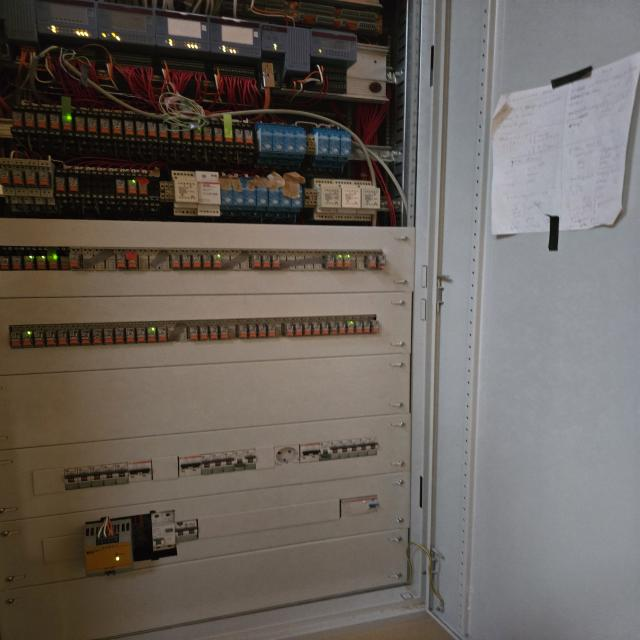Dimmer: (172, 170, 198, 216), (196, 171, 221, 217), (314, 178, 341, 220), (334, 179, 361, 220), (353, 180, 380, 221), (256, 123, 273, 159), (281, 125, 296, 160), (270, 124, 284, 160), (242, 177, 257, 210), (292, 126, 306, 161), (219, 176, 233, 210), (231, 176, 245, 210), (254, 177, 268, 211), (277, 178, 291, 212), (266, 178, 280, 211), (288, 179, 302, 212), (338, 130, 352, 161), (326, 129, 339, 162), (315, 128, 328, 160)
FI: (340, 494, 377, 517)
FI_Sicherungskombi: (151, 510, 176, 550)
Leitungsschutzschalter: (77, 466, 92, 489), (64, 468, 79, 490), (90, 465, 104, 487), (115, 462, 128, 485), (103, 464, 116, 486), (128, 461, 140, 483), (140, 459, 152, 481), (179, 456, 191, 477), (245, 448, 256, 470), (186, 520, 197, 541), (234, 450, 245, 471), (358, 438, 370, 457), (175, 522, 186, 542), (201, 454, 212, 474), (212, 453, 223, 473), (223, 452, 234, 472), (319, 441, 330, 461), (191, 455, 201, 475), (300, 443, 310, 463), (329, 440, 339, 460), (339, 439, 349, 459), (349, 439, 359, 458), (368, 436, 378, 455), (310, 443, 320, 461)
Relais: (86, 117, 98, 134), (126, 253, 139, 268), (62, 115, 73, 132), (38, 112, 48, 130), (50, 113, 60, 131), (25, 112, 36, 128), (12, 111, 22, 128), (0, 168, 10, 185), (70, 254, 82, 268), (12, 169, 23, 184), (75, 116, 85, 132), (100, 118, 110, 134), (26, 169, 36, 185), (112, 120, 123, 134), (10, 332, 21, 346), (45, 331, 56, 345), (124, 120, 134, 135), (147, 122, 157, 137), (244, 129, 254, 144), (39, 170, 49, 185), (136, 121, 145, 137), (158, 124, 168, 138), (56, 177, 66, 191), (68, 177, 78, 191), (138, 180, 148, 194), (12, 256, 22, 270), (24, 256, 34, 270), (36, 256, 46, 270), (48, 256, 58, 270), (60, 256, 70, 270), (191, 254, 201, 268), (202, 254, 212, 268), (22, 332, 32, 346), (58, 331, 68, 345), (70, 331, 80, 345), (80, 330, 90, 344), (136, 328, 146, 342), (157, 327, 167, 341), (116, 180, 126, 193), (212, 255, 222, 268), (34, 332, 44, 345), (188, 326, 198, 339), (237, 325, 247, 338), (283, 323, 293, 336), (182, 125, 191, 139), (0, 256, 9, 270), (172, 254, 181, 268), (93, 330, 102, 344), (115, 329, 124, 343), (126, 329, 135, 343), (147, 328, 156, 342), (199, 326, 208, 340), (257, 324, 266, 338), (252, 255, 262, 267), (367, 256, 377, 268), (104, 329, 112, 344), (266, 325, 276, 337), (170, 125, 179, 138), (117, 255, 126, 268), (182, 255, 191, 268), (209, 326, 218, 339), (294, 323, 303, 336), (194, 126, 202, 140), (225, 128, 233, 142), (235, 129, 243, 143), (128, 180, 136, 194), (220, 325, 228, 339), (304, 322, 312, 336), (203, 128, 212, 140), (378, 256, 387, 268), (263, 255, 271, 268), (272, 255, 280, 268), (326, 255, 334, 268), (248, 324, 256, 337), (330, 321, 338, 334), (371, 320, 379, 333), (215, 128, 222, 142), (313, 322, 320, 336), (355, 321, 363, 333), (336, 255, 343, 268), (344, 255, 351, 268), (339, 322, 346, 334), (364, 320, 371, 332), (322, 322, 328, 335), (348, 322, 354, 334)
SPS-System -Steuerungskomponente-: (96, 1, 156, 45), (36, 0, 98, 40), (155, 9, 211, 52), (209, 15, 260, 57), (261, 22, 311, 55), (311, 29, 357, 62)
Verbinder: (160, 182, 174, 202), (305, 188, 317, 208), (305, 134, 316, 155)
